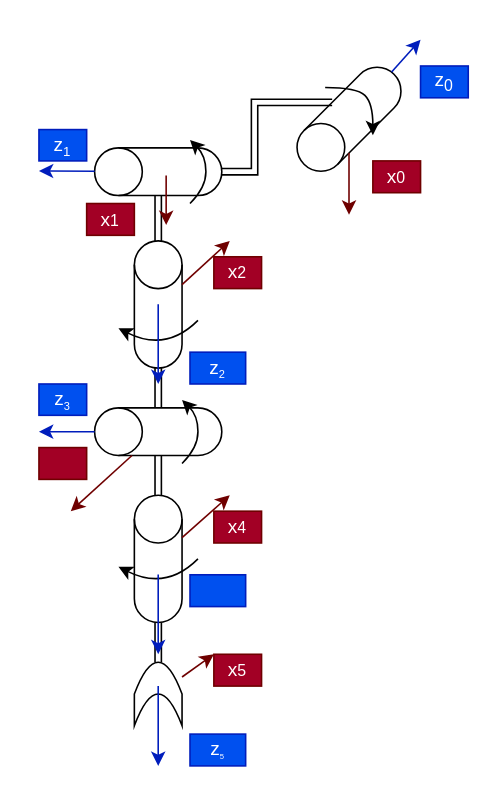
This 496x806 diagram has some shape labels left out. The centre of each missing label's shape, as x and y in pixels:
"x 3" belongs at (62,462).
"z 4" belongs at (217,590).
